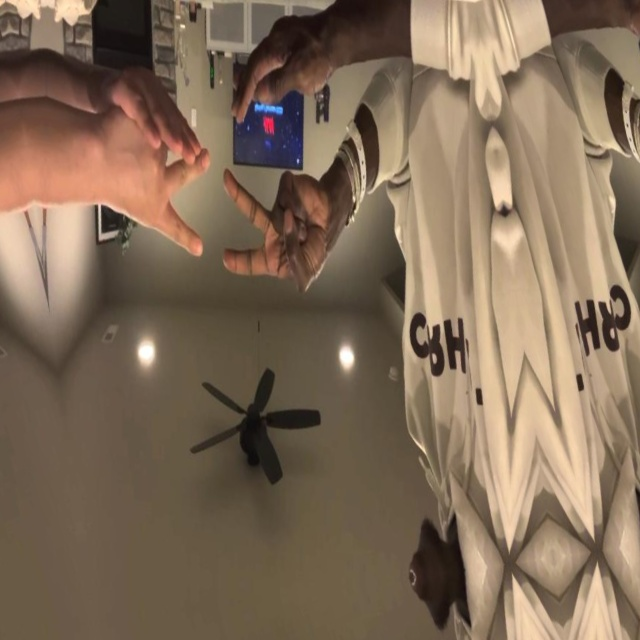Scissors: (83, 79, 231, 274), (202, 133, 346, 315)
